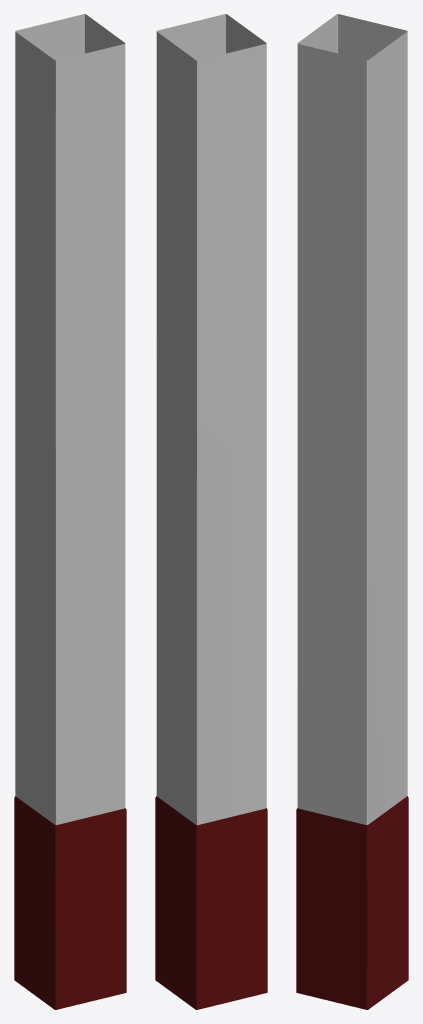
The model's file is SM_H_Building_Tide_Jail_Pillar_01_ATLAS.fbx.
The picture shows the model from 3 angles, left to right: view 1: azimuth 30°, elevation 25°; view 2: azimuth 210°, elevation 25°; view 3: azimuth 330°, elevation 25°; orthographic projection.
Visible parts, largest first — view 1: SM_H_Building_Tide_Jail_Pillar_01_ATLAS; view 2: SM_H_Building_Tide_Jail_Pillar_01_ATLAS; view 3: SM_H_Building_Tide_Jail_Pillar_01_ATLAS.
Part boxes in pixels (x1,y1,x2,y2): SM_H_Building_Tide_Jail_Pillar_01_ATLAS: [14, 14, 126, 1009]; SM_H_Building_Tide_Jail_Pillar_01_ATLAS: [155, 14, 267, 1009]; SM_H_Building_Tide_Jail_Pillar_01_ATLAS: [296, 14, 408, 1009].
Bounding box in the file's own units: 151 × 151 × 1903.
